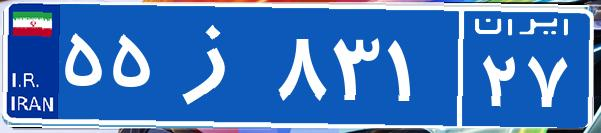1: (385, 28, 445, 110)
2: (475, 38, 525, 113)
3: (330, 28, 385, 110)
5: (57, 26, 110, 107), (110, 28, 158, 105)
7: (525, 38, 570, 115)
8: (273, 28, 330, 110)
ز: (158, 15, 273, 115)
